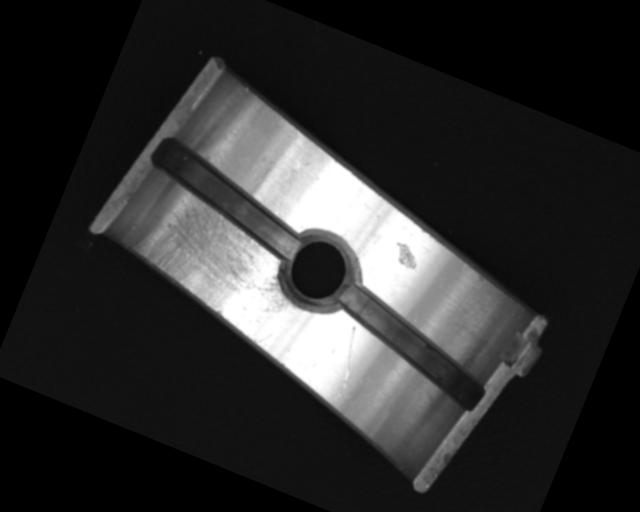bruise: (388, 240, 424, 273)
gap: (321, 278, 504, 412), (135, 132, 319, 261)
hole: (269, 220, 369, 324)
nick: (329, 324, 368, 389)
scratch: (118, 174, 318, 348)
